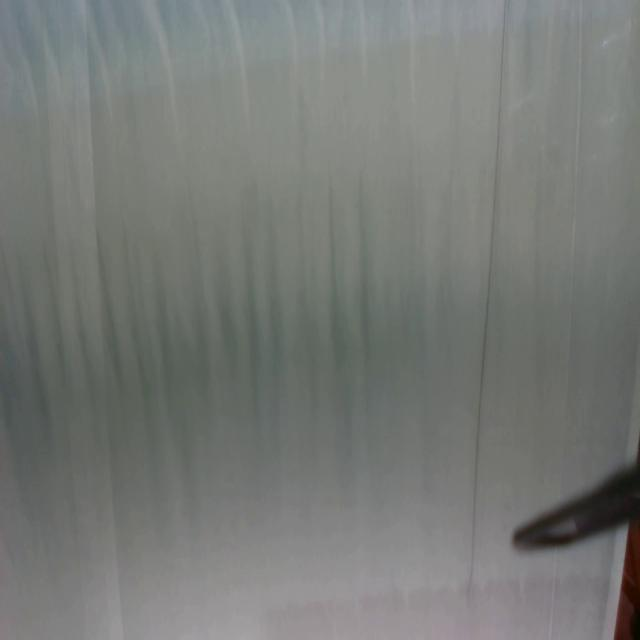color bleeding: (260, 573, 619, 640)
crease: (55, 2, 113, 638), (467, 0, 507, 593), (558, 0, 584, 492), (548, 551, 558, 640)
